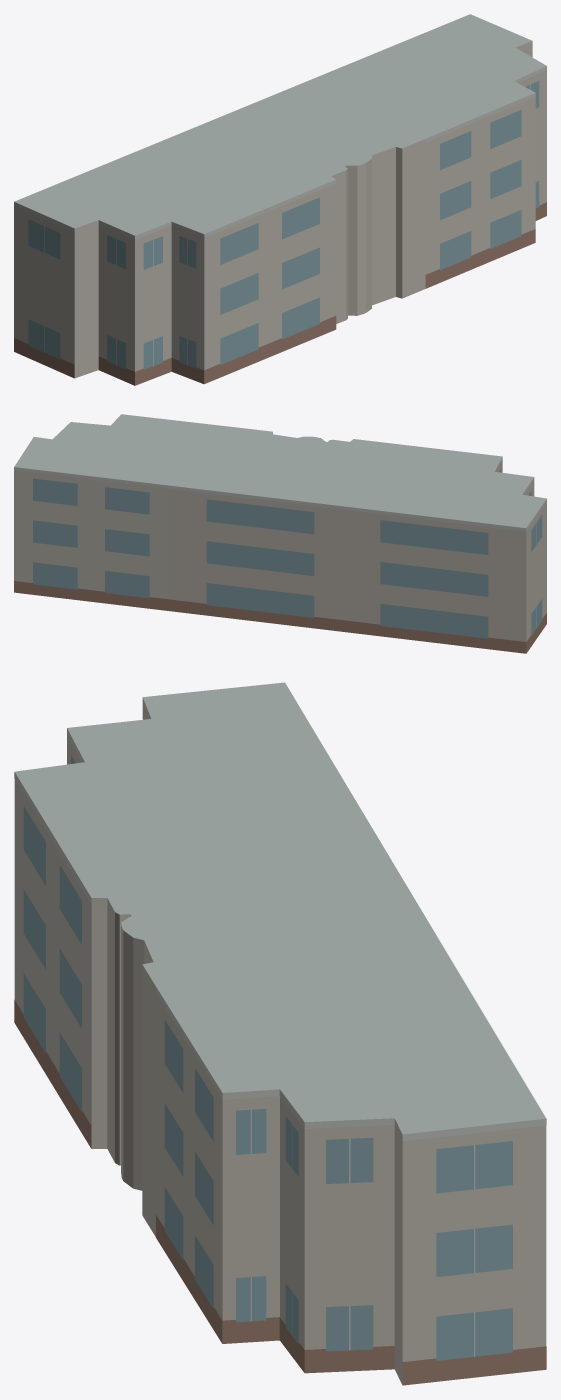
The model's file is survey-upis-32896888.glb.
3 renders of one model, top to bottom at view 1: azimuth 30°, elevation 25°; view 2: azimuth 150°, elevation 25°; view 3: azimuth 270°, elevation 25°, orthographic. The views are drawn at different scales.
Visible parts, largest first — view 1: survey-upis-32896888.tmp; view 2: survey-upis-32896888.tmp; view 3: survey-upis-32896888.tmp.
Boxes of the visible parts, x1=… form: survey-upis-32896888.tmp: x1=14, y1=14, x2=546, y2=385; survey-upis-32896888.tmp: x1=14, y1=414, x2=546, y2=653; survey-upis-32896888.tmp: x1=14, y1=682, x2=546, y2=1385.
Bounding box in the file's own units: 35.35 × 9.15 × 17.58.
